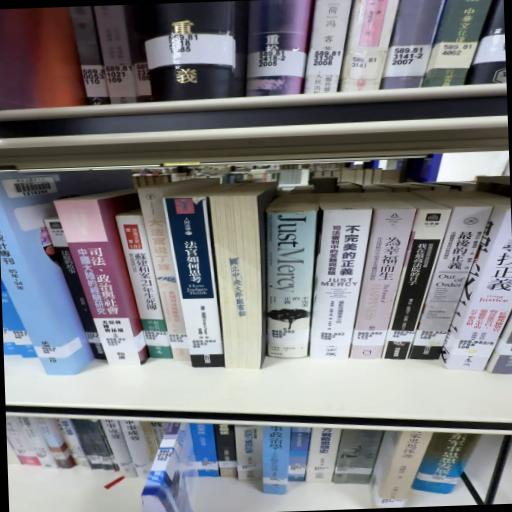backward: (214, 181, 279, 381)
book: (55, 192, 151, 368), (162, 194, 224, 374), (268, 200, 331, 360), (117, 202, 172, 363)
